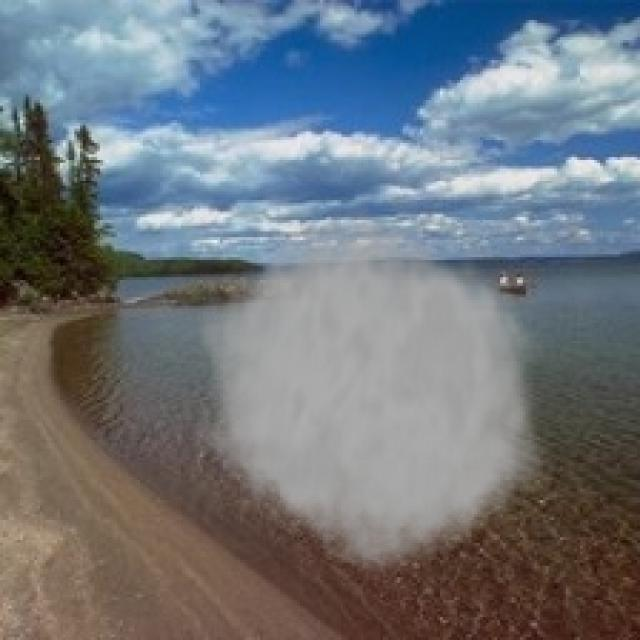smoke: (197, 197, 557, 583)
